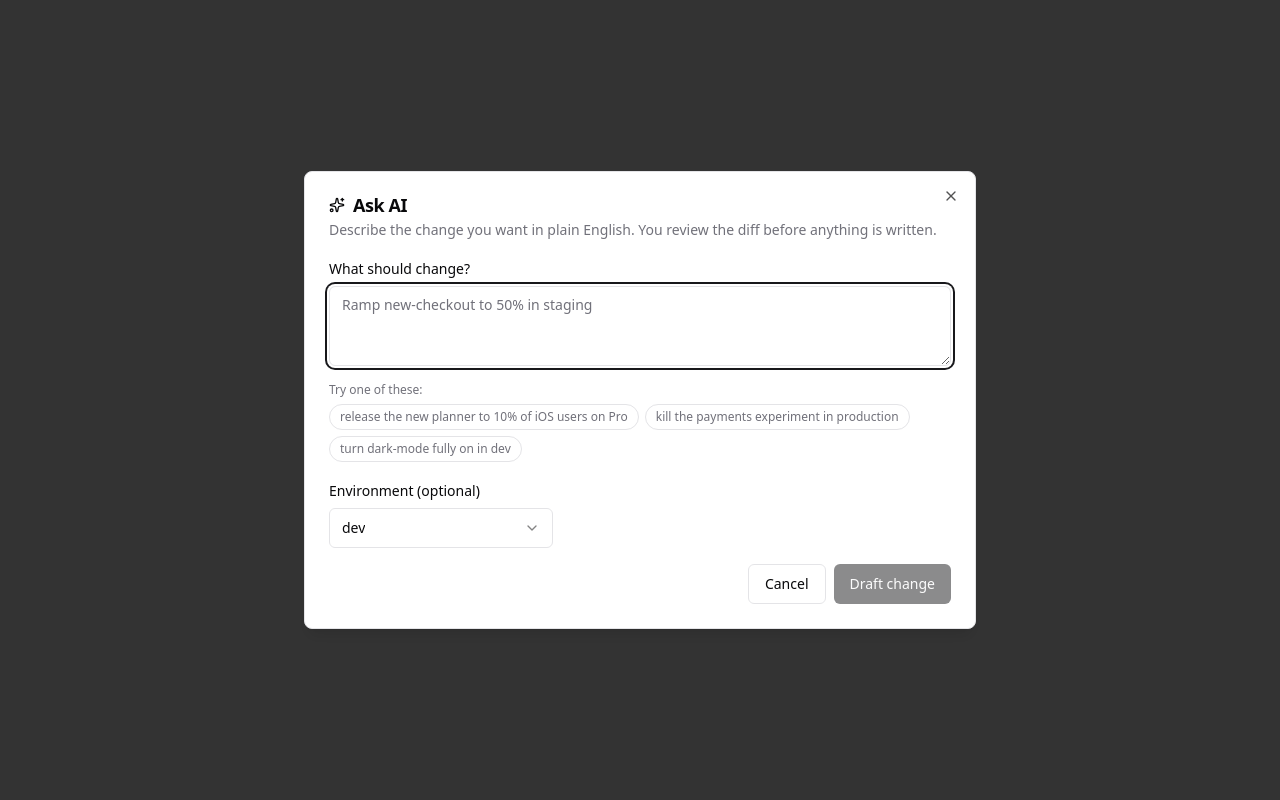
Scenario: AskAiDialog › fills the prompt from a tapped example
Click the button with test id "ask-ai-example-1" at (777, 417), box [645,404,910,430]
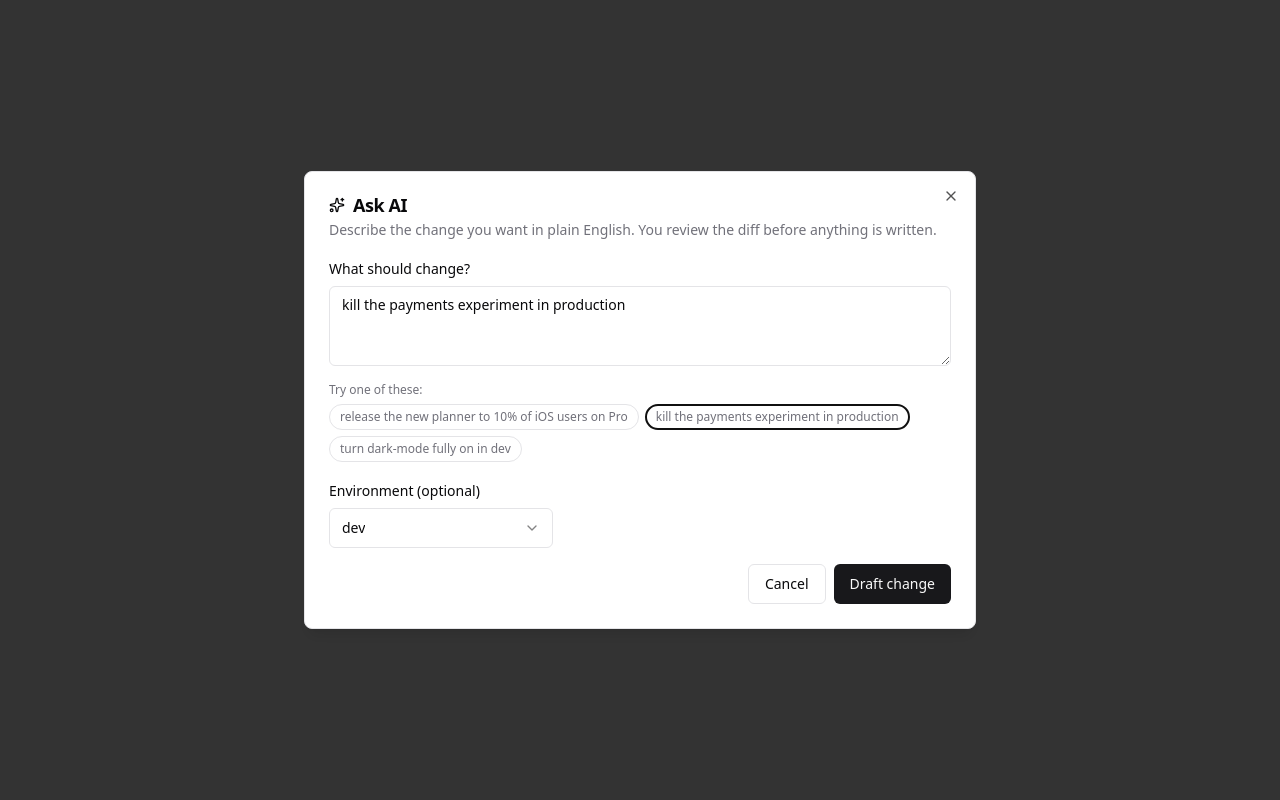
Result: the text box with test id "ask-ai-prompt" holds "kill the payments experiment in production" at [329,286,951,366]
Result: the button with test id "ask-ai-submit" is enabled at [834,564,951,604]
